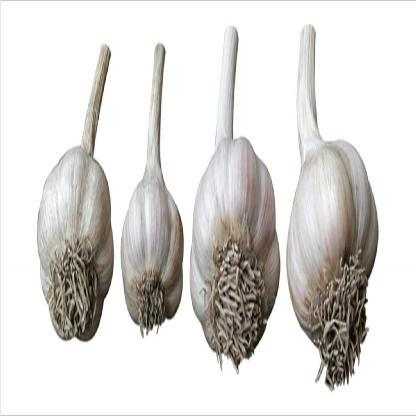garlic: (290, 22, 378, 393), (199, 33, 275, 362), (41, 30, 113, 346), (122, 49, 182, 346)
